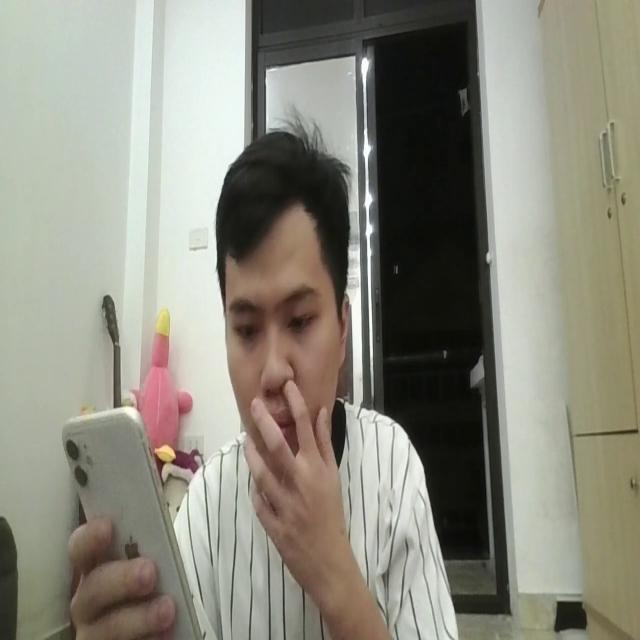phone: (59, 406, 207, 628)
student: (66, 121, 462, 640)
